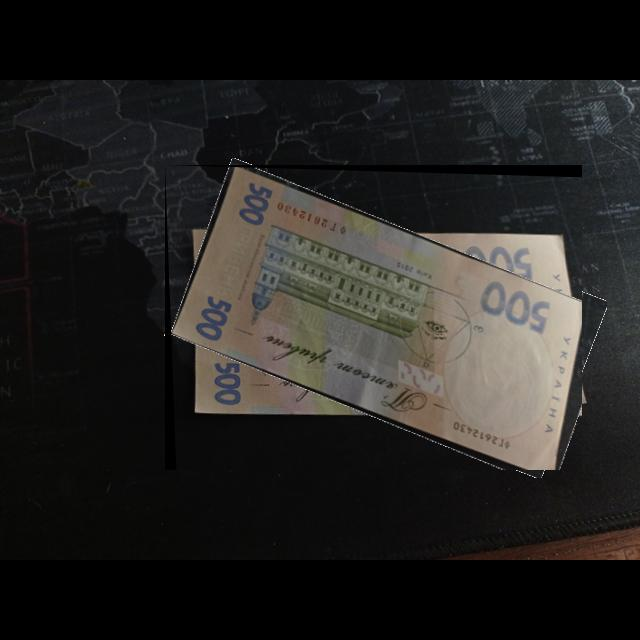500uah: (170, 167, 583, 471)
